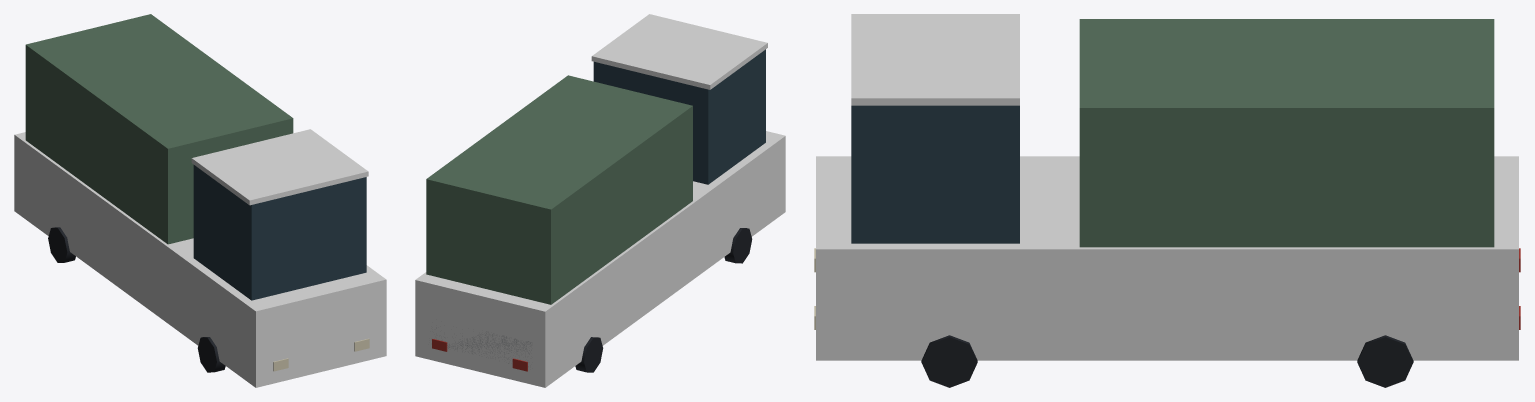
The model's file is veh_garbage_1.7da69c7282e4.glb.
3 renders of one model, left to right at view 1: azimuth 30°, elevation 25°; view 2: azimuth 150°, elevation 25°; view 3: azimuth 270°, elevation 25°, orthographic. The views are drawn at different scales.
Visible parts, largest first — view 1: LOD0; view 2: LOD0; view 3: LOD0.
Part boxes in pixels (left/top/right/bottom): LOD0: left=14, top=14, right=386, bottom=387; LOD0: left=415, top=14, right=785, bottom=387; LOD0: left=814, top=14, right=1520, bottom=387.
Size of what is drawn, in the model's own units: 2.6 by 3.56 by 8.04.
